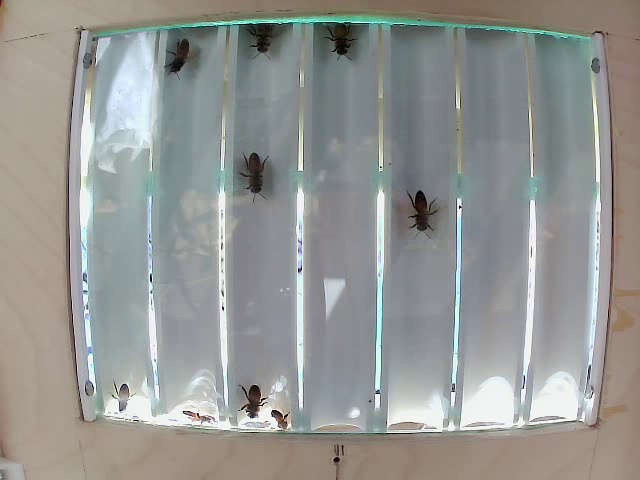bee: (238, 147, 287, 206), (393, 181, 428, 251), (321, 10, 360, 55), (245, 9, 282, 53), (235, 376, 262, 427), (162, 36, 200, 71)
